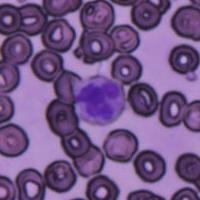N: (74, 74, 125, 125)
